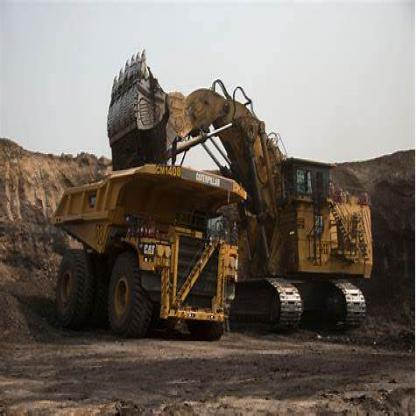dump_truck: (43, 160, 257, 356)
